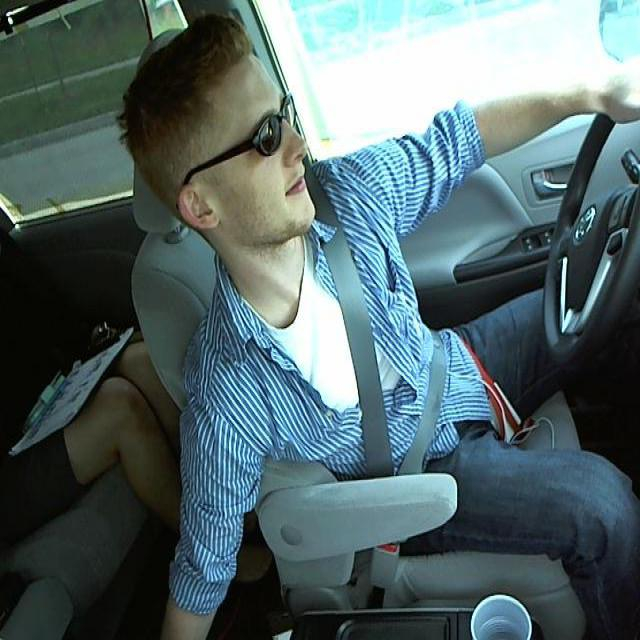seatbelt: (307, 225, 450, 476)
